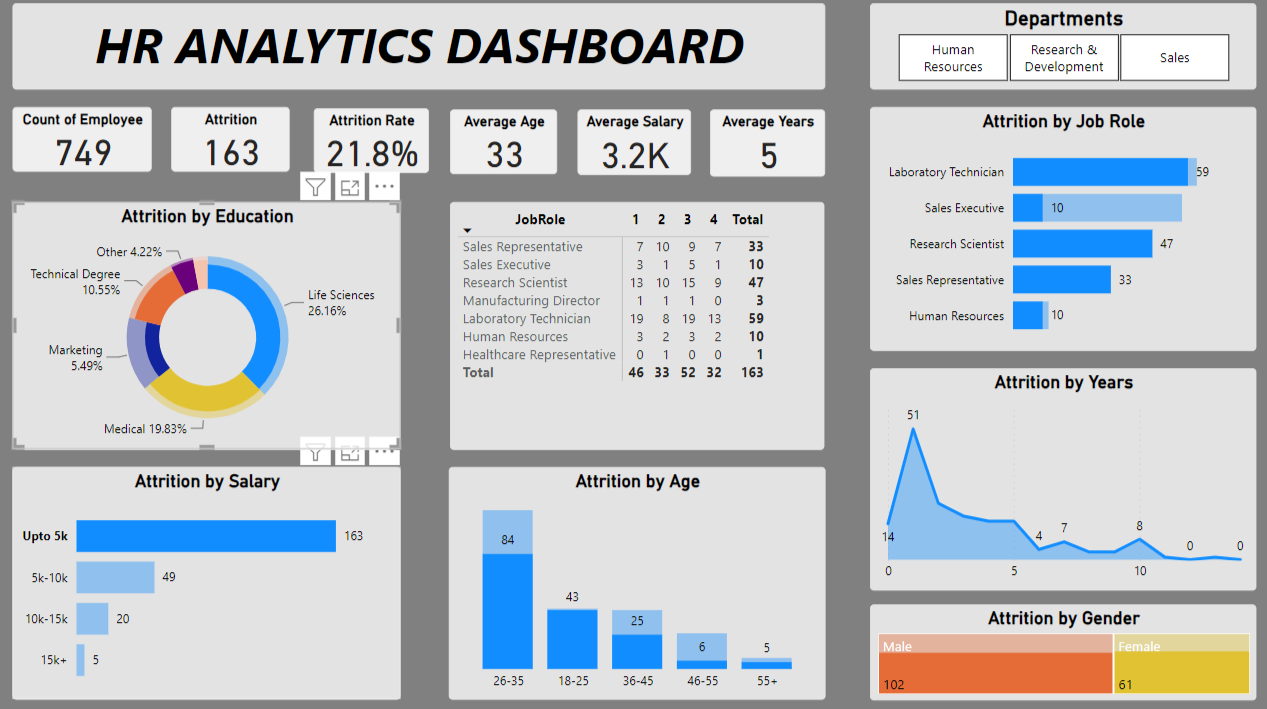

What the dashboard file says about the page in this screenshot:
{"tool":"powerbi","page":{"name":"Page 1","canvas":[1280,720],"ordinal":0},"visuals":[{"type":"card","title":"Count of Employee","fields":{"Values":["CountNonNull(HR_Analytics.EmpID)"]},"box":[17,113.8,139.4,64.9],"z":0},{"type":"card","title":"Attrition","fields":{"Values":["Sum(HR_Analytics.AttritionCount)"]},"box":[176.6,113.8,118.1,64.9],"z":1000},{"type":"card","title":"Attrition Rate","fields":{"Values":["HR_Analytics.AttritionRate"]},"box":[319.1,114.9,114.9,64.9],"z":2000},{"type":"card","title":"Average Age ","fields":{"Values":["Avg(HR_Analytics.Age)"]},"box":[455.3,116,107.4,64.9],"z":3000},{"type":"card","title":"Average Salary","fields":{"Values":["Avg(HR_Analytics.MonthlyIncome)"]},"box":[583,116,113.8,66],"z":4000},{"type":"card","title":"Average Years ","fields":{"Values":["Avg(HR_Analytics.YearsAtCompany)"]},"box":[714.9,116,114.9,67],"z":5000},{"type":"donutChart","title":"Attrition by Education","fields":{"Category":["HR_Analytics.EducationField"],"Y":["Sum(HR_Analytics.AttritionCount)"]},"box":[17,208.5,388.3,247.9],"z":6000},{"type":"columnChart","title":"Attrition by Age","fields":{"Category":["HR_Analytics.AgeGroup"],"Y":["Sum(HR_Analytics.AttritionCount)"]},"box":[453.2,473.4,376.6,233],"z":7000},{"type":"pivotTable","fields":{"Rows":["HR_Analytics.JobRole"],"Columns":["HR_Analytics.JobSatisfaction"],"Values":["Sum(HR_Analytics.AttritionCount)"]},"box":[455.3,208.5,374.5,247.9],"z":8000},{"type":"barChart","title":"Attrition by Salary","fields":{"Category":["HR_Analytics.SalarySlab"],"Y":["Sum(HR_Analytics.AttritionCount)"]},"box":[17,473.4,388.3,233],"z":9000},{"type":"barChart","title":"Attrition by Job Role","fields":{"Category":["HR_Analytics.JobRole"],"Y":["Sum(HR_Analytics.AttritionCount)"]},"box":[875.5,113.8,386.2,243.6],"z":10000},{"type":"areaChart","title":"Attrition by Years","fields":{"Category":["HR_Analytics.YearsAtCompany"],"Y":["Sum(HR_Analytics.AttritionCount)"]},"box":[875,375,386.2,222.5],"z":11000},{"type":"treemap","title":"Attrition by Gender","fields":{"Group":["HR_Analytics.Gender"],"Values":["Sum(HR_Analytics.AttritionCount)"]},"box":[875.5,610.6,386.2,95.7],"z":12000},{"type":"slicer","title":"Departments","fields":{"Values":["HR_Analytics.Department"]},"box":[875.5,9.6,386.2,86.2],"z":13000},{"type":"textbox","box":[17,9.6,812.8,86.2],"z":14000}]}

Visuals, with their boxes in screenshot pixels (x1, y1, x2, y2), scaled from the page's 1280x720 canvas onto the 1267x709 screenshot:
"Count of Employee" card: l=17, t=112, r=155, b=176
"Attrition" card: l=175, t=112, r=292, b=176
"Attrition Rate" card: l=316, t=113, r=430, b=177
"Average Age " card: l=451, t=114, r=557, b=178
"Average Salary" card: l=577, t=114, r=690, b=179
"Average Years " card: l=708, t=114, r=821, b=180
"Attrition by Education" donutChart: l=17, t=205, r=401, b=449
"Attrition by Age" columnChart: l=449, t=466, r=821, b=696
pivotTable - HR_Analytics.JobRole x HR_Analytics.JobSatisfaction: l=451, t=205, r=821, b=449
"Attrition by Salary" barChart: l=17, t=466, r=401, b=696
"Attrition by Job Role" barChart: l=867, t=112, r=1249, b=352
"Attrition by Years" areaChart: l=866, t=369, r=1248, b=588
"Attrition by Gender" treemap: l=867, t=601, r=1249, b=696
"Departments" slicer: l=867, t=9, r=1249, b=94
textbox: l=17, t=9, r=821, b=94
